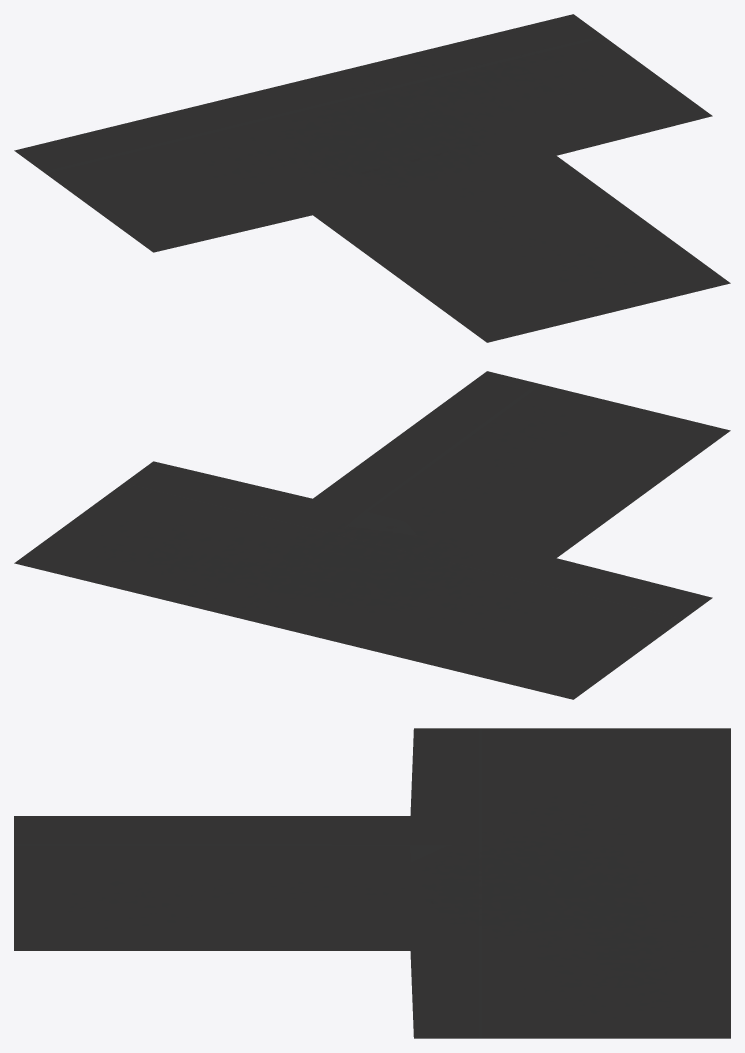
The model's file is T_Road_Short.fbx.
The picture shows the model from 3 angles, top to bottom: view 1: azimuth 30°, elevation 25°; view 2: azimuth 150°, elevation 25°; view 3: azimuth 270°, elevation 25°; orthographic projection. The views are drawn at different scales.
Parts seen in each view (by area): view 1: T_Road_Short; view 2: T_Road_Short; view 3: T_Road_Short.
Boxes of the visible parts, bbox=[...] form: T_Road_Short: bbox=[14, 14, 730, 342]; T_Road_Short: bbox=[14, 371, 730, 699]; T_Road_Short: bbox=[14, 728, 730, 1038].
Size of the model in its own units: 1300 by 1269 by 0.0404.
